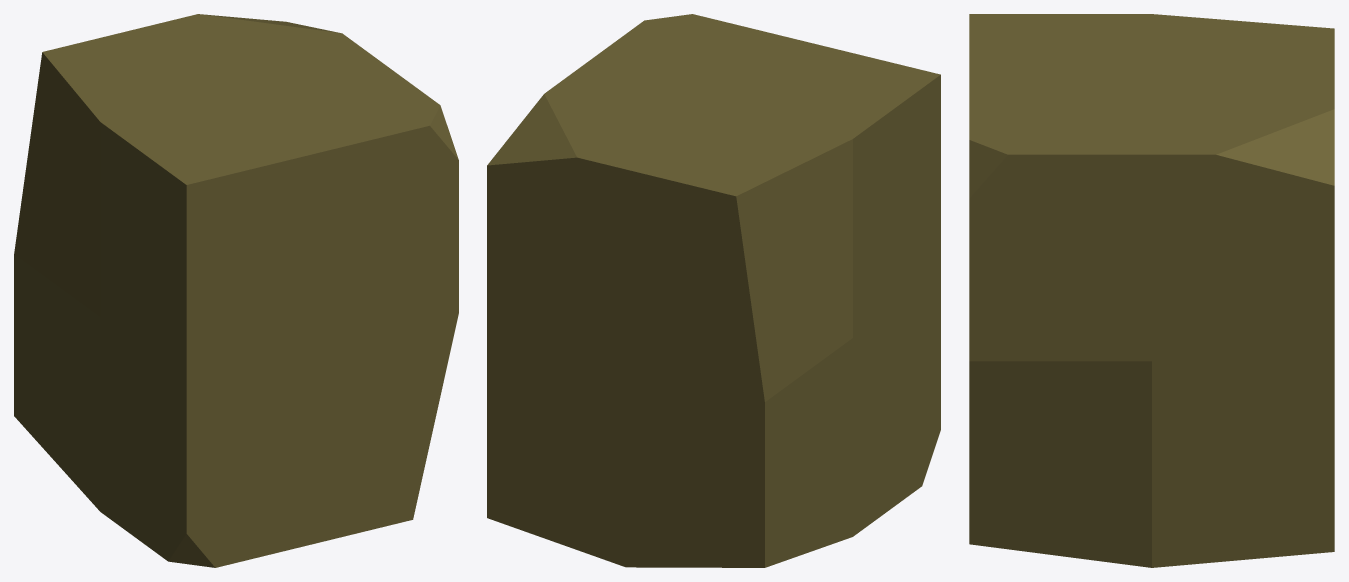
The picture shows the model from 3 angles, left to right: view 1: azimuth 30°, elevation 25°; view 2: azimuth 150°, elevation 25°; view 3: azimuth 270°, elevation 25°; orthographic projection. The views are drawn at different scales.
Parts seen in each view (by area): view 1: Cube; view 2: Cube; view 3: Cube.
Boxes of the visible parts, x1=… form: Cube: x1=14, y1=14, x2=458, y2=567; Cube: x1=487, y1=14, x2=940, y2=567; Cube: x1=969, y1=14, x2=1334, y2=567.
Size of the model in its own units: 88.02 by 120 by 96.55.
